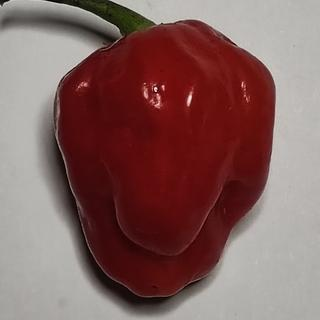Grade-A: (44, 16, 277, 303)
